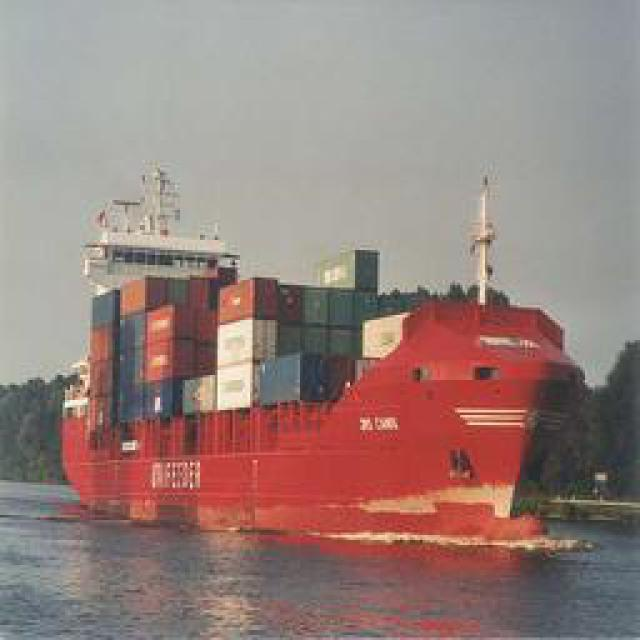Ship: (53, 143, 588, 568)
